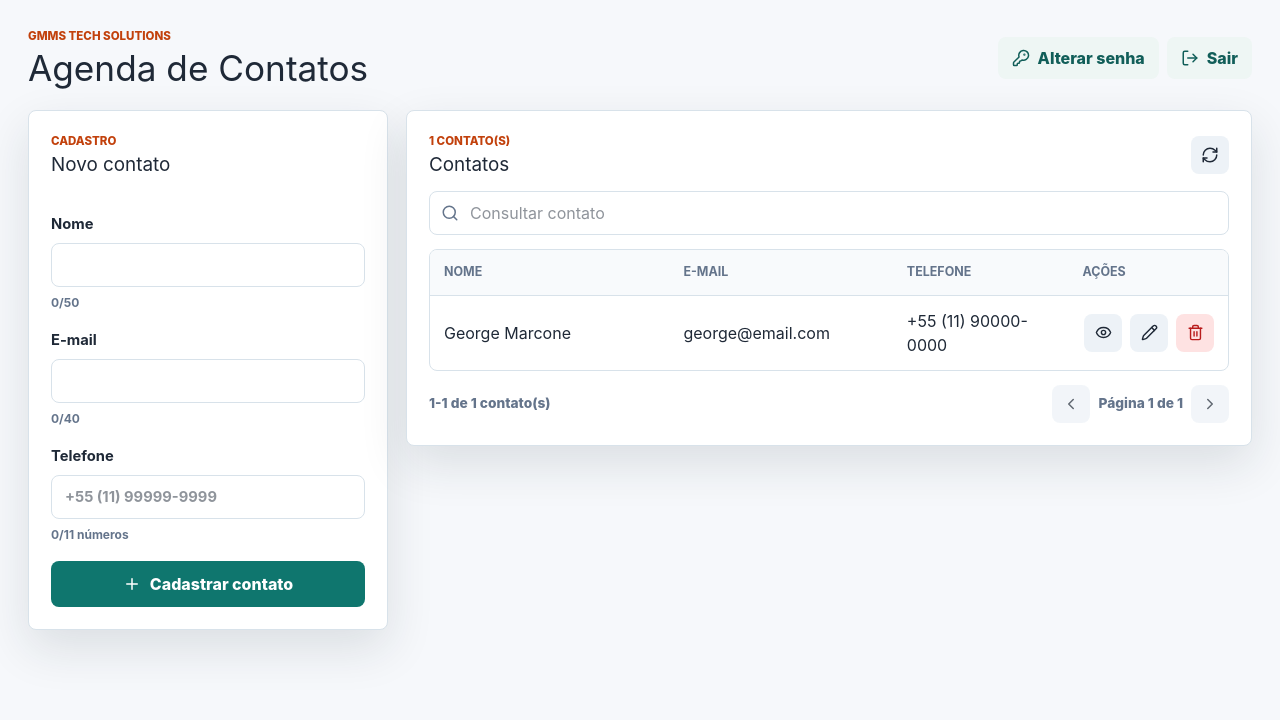
Test: ContactsView › preenche o formulário ao editar e envia a alteração do contato
Click the button named "Editar contato". click: click(1149, 333)
box: [1130,314,1168,352]
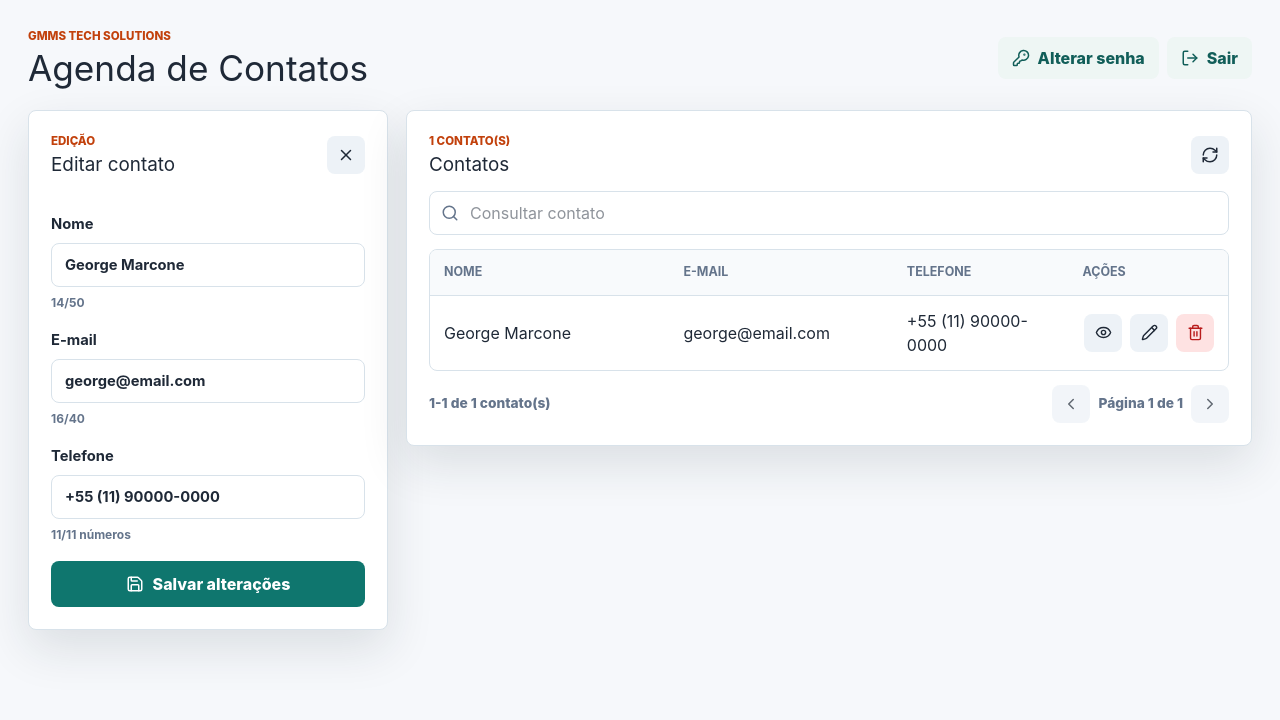
Now the field labelled "Nome 14/50" holds "George Marcone", box [51,243,365,287]
Now the field labelled "E-mail 16/40" holds "george@email.com", box [51,359,365,403]
Replace the text in the field labelled "Telefone 11/11 números" with "11988887777". click: (208, 497)
box: [51,475,365,519]
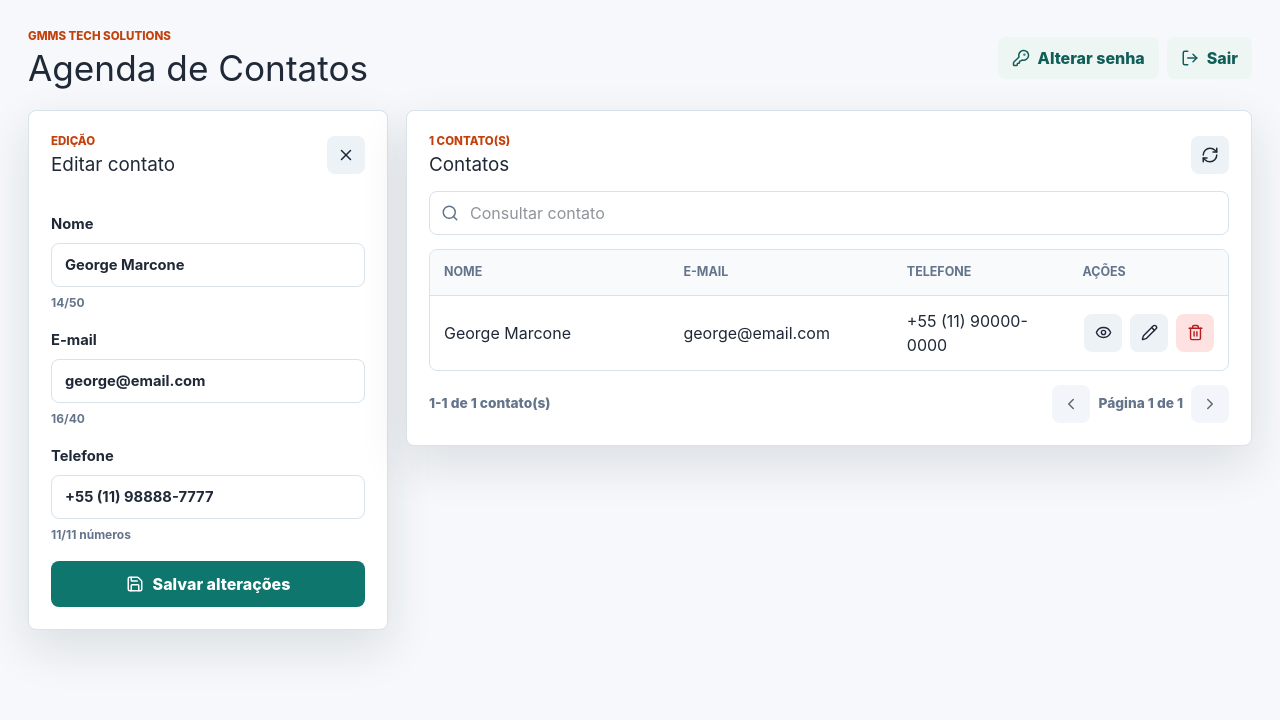
Now the field labelled "Telefone 11/11 números" holds "+55 (11) 98888-7777", box [51,475,365,519]
Submit the form with class "contact-form", box [28,110,388,630]
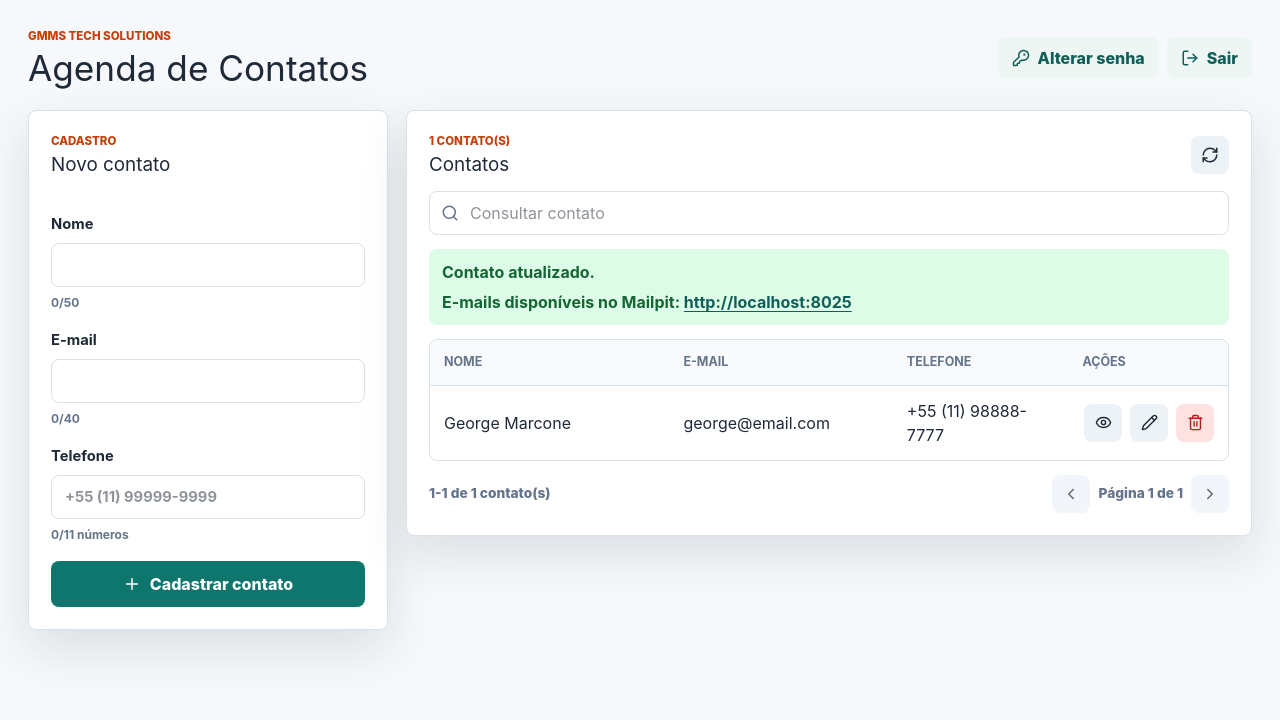
Now the text "Contato atualizado." is shown, box [442,262,595,282]
Now the text "+55 (11) 98888-7777" is shown, box [893,385,1068,460]
